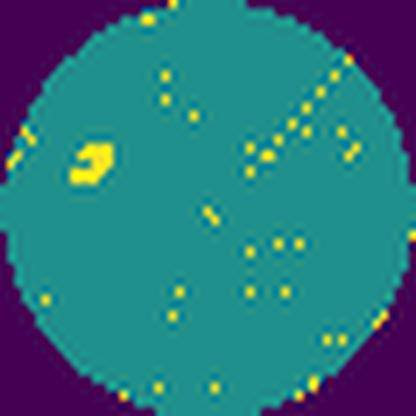Edge-Loc: (64, 143, 118, 188)
